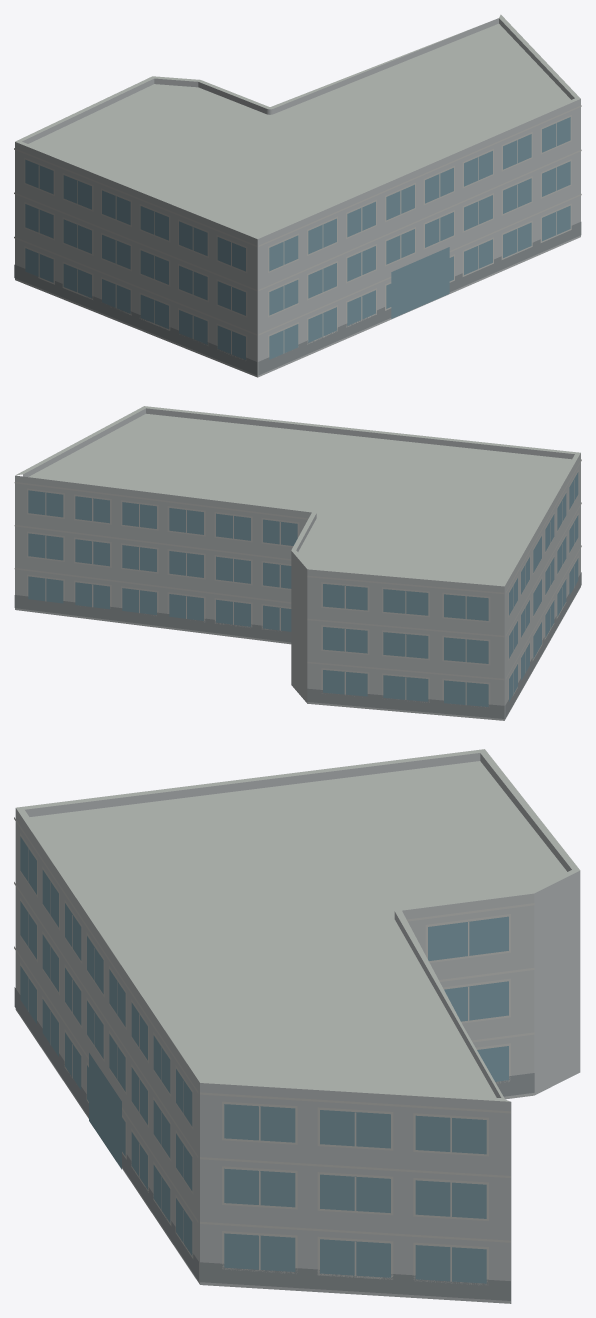
The model's file is public-837eb28a-39c3-44d3-a76b-492139d055a4.glb.
The picture shows the model from 3 angles, top to bottom: view 1: azimuth 30°, elevation 25°; view 2: azimuth 150°, elevation 25°; view 3: azimuth 270°, elevation 25°; orthographic projection. The views are drawn at different scales.
Visible parts, largest first — view 1: public-837eb28a-39c3-44d3-a76b-492139d055a4; view 2: public-837eb28a-39c3-44d3-a76b-492139d055a4; view 3: public-837eb28a-39c3-44d3-a76b-492139d055a4.
Part boxes in pixels (box(x1,y1,x2,y2)): public-837eb28a-39c3-44d3-a76b-492139d055a4: box(14, 14, 581, 377); public-837eb28a-39c3-44d3-a76b-492139d055a4: box(14, 406, 581, 720); public-837eb28a-39c3-44d3-a76b-492139d055a4: box(14, 749, 580, 1303).
Bounding box in the file's own units: 34.39 × 9.15 × 23.31.
